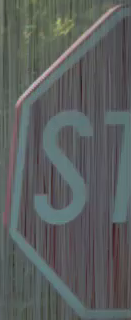Stop: (10, 5, 121, 303)
